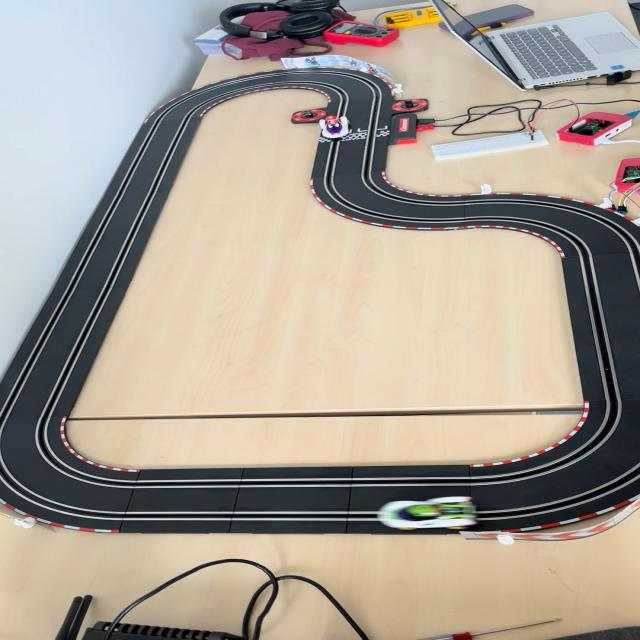mario: (318, 115, 351, 140)
yoshi: (374, 494, 481, 533)
